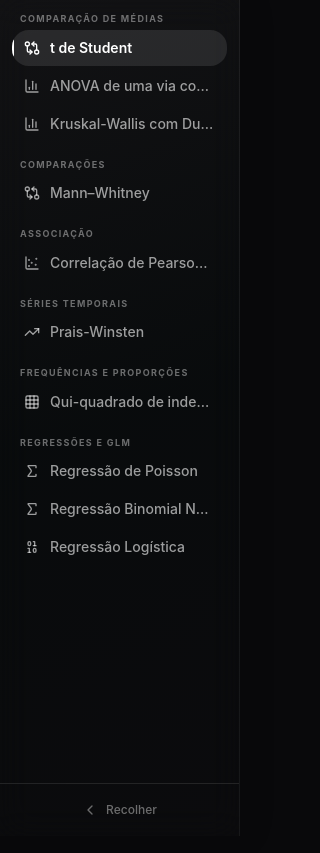
Sidebar › toggles aria-expanded and accessible name on the collapse button
Click the button with aria-label "Recolher lista de testes" at (120, 810), box [10,794,229,826]
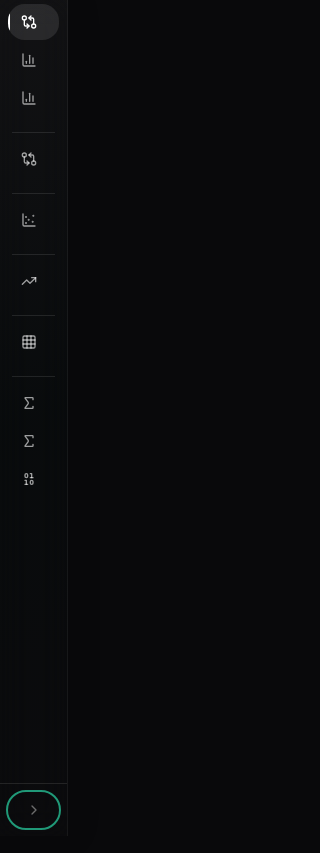
Expected: the button named "Recolher lista de testes" is collapsed, [10,794,57,826]
